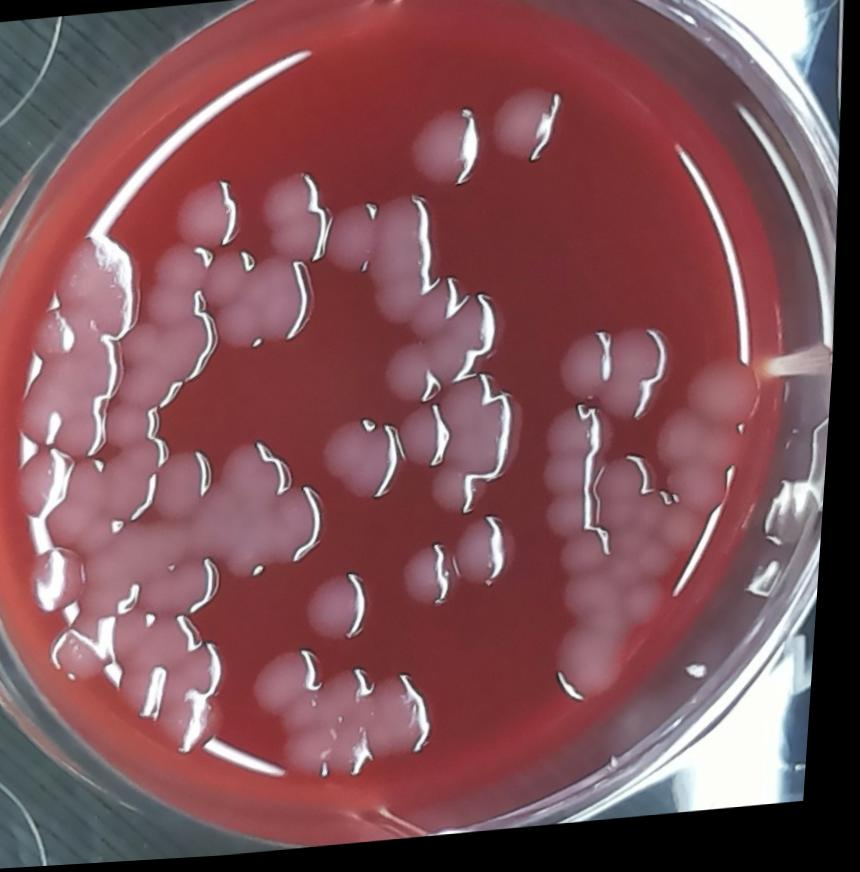valgino: (547, 454, 719, 712), (200, 435, 345, 582), (293, 667, 454, 785), (204, 243, 328, 362), (559, 325, 684, 436), (407, 270, 517, 389), (49, 221, 153, 338), (63, 433, 176, 537), (365, 196, 444, 332), (442, 376, 533, 493), (317, 411, 412, 515), (487, 81, 579, 180), (258, 170, 339, 273), (681, 355, 775, 443), (404, 104, 484, 203), (308, 568, 388, 656), (252, 643, 337, 722), (455, 517, 532, 604), (169, 174, 249, 251), (377, 339, 455, 410), (669, 462, 745, 531), (324, 201, 385, 280), (402, 409, 463, 478), (431, 463, 496, 526), (546, 495, 616, 549), (107, 395, 174, 448)
